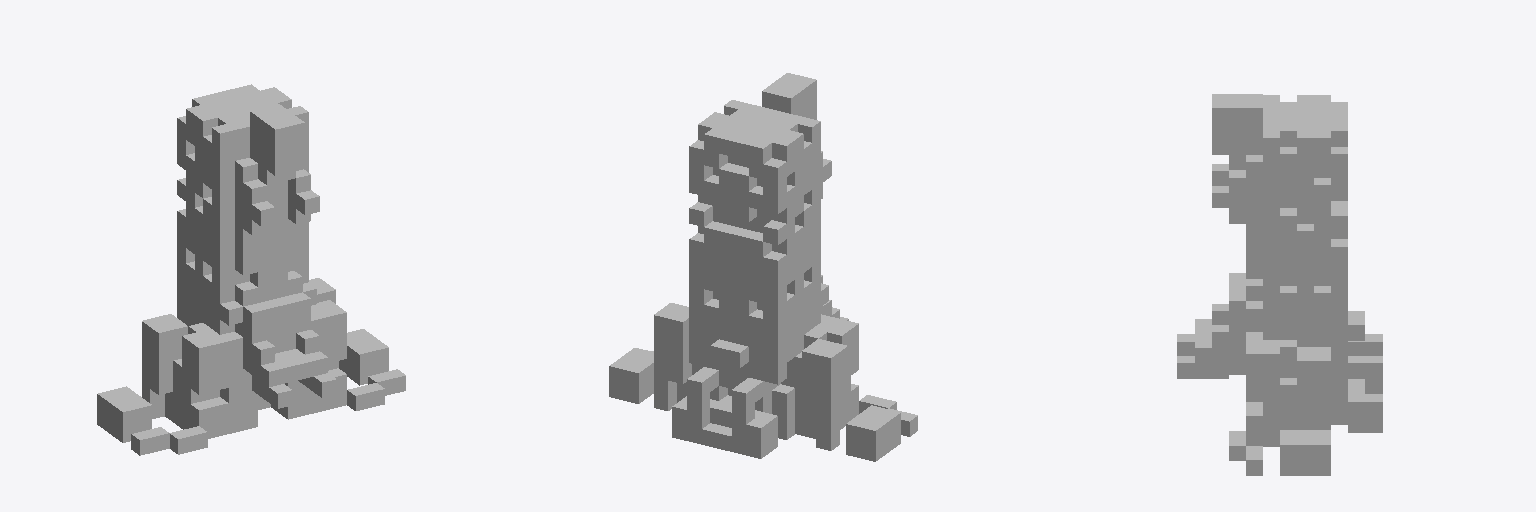
Rendered from banana.obj.
3 renders of one model, left to right at view 1: azimuth 30°, elevation 25°; view 2: azimuth 150°, elevation 25°; view 3: azimuth 270°, elevation 25°, orthographic.
Parts seen in each view (by area): view 1: object 1; view 2: object 1; view 3: object 1.
Part boxes in pixels (bbox=[...]): object 1: bbox=[97, 84, 405, 455]; object 1: bbox=[609, 73, 917, 461]; object 1: bbox=[1177, 94, 1382, 475].
Bounding box in the file's own units: 1.8 × 2 × 1.2.